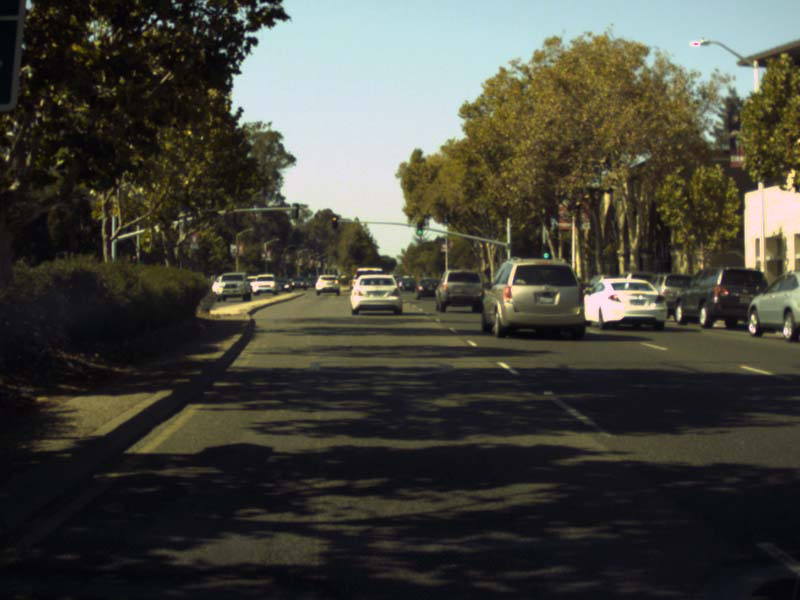Green: (542, 243, 550, 258), (416, 221, 422, 235)
Red: (331, 216, 337, 228)
